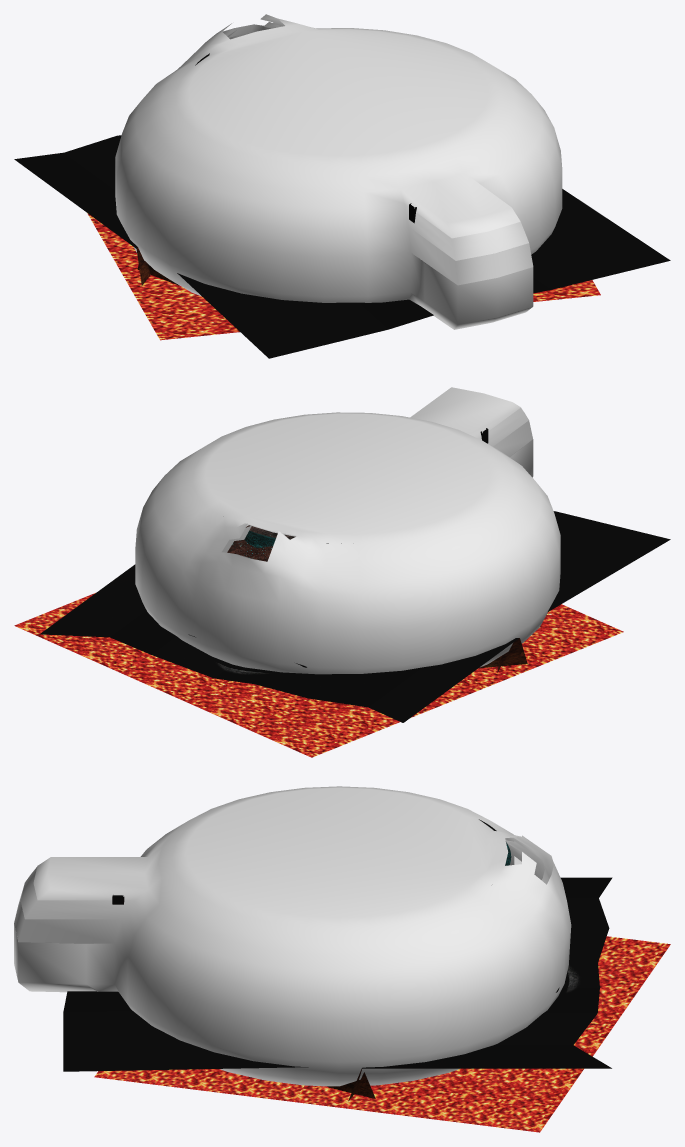
Rendered from caverna-baked.fbx.
The picture shows the model from 3 angles, top to bottom: view 1: azimuth 30°, elevation 25°; view 2: azimuth 150°, elevation 25°; view 3: azimuth 270°, elevation 25°; orthographic projection. The views are drawn at different scales.
Visible parts, largest first — view 1: Cylinder.005, Plane.003, Plane.004, Plane.002; view 2: Cylinder.005, Plane.004, Plane.002, Plane.003, Plane.001; view 3: Cylinder.005, Plane.004, Plane.002, Plane.003, Cylinder.
Part boxes in pixels (box(x1,y1,x2,y2)): Cylinder.005: box(115, 14, 562, 329); Plane.003: box(137, 189, 670, 358); Plane.004: box(87, 213, 600, 340); Plane.002: box(14, 135, 150, 285); Cylinder.005: box(135, 387, 560, 674); Plane.004: box(14, 593, 623, 757); Plane.002: box(40, 564, 527, 722); Plane.003: box(227, 511, 670, 672); Plane.001: box(244, 525, 341, 548); Cylinder.005: box(14, 786, 571, 1086); Plane.004: box(94, 936, 670, 1132); Plane.002: box(348, 877, 612, 1101); Plane.003: box(63, 991, 375, 1098); Cylinder: box(45, 839, 549, 943).
Size of the model in its own units: 3159 by 1147 by 3598.
